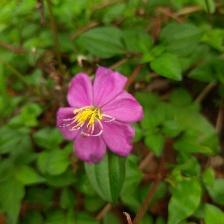malabar melastome: (57, 67, 147, 165)
